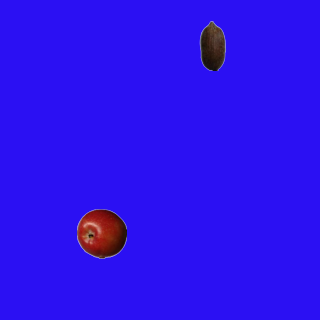Apple Braeburn: (76, 208, 126, 258)
Nut Pecan: (187, 20, 237, 70)
